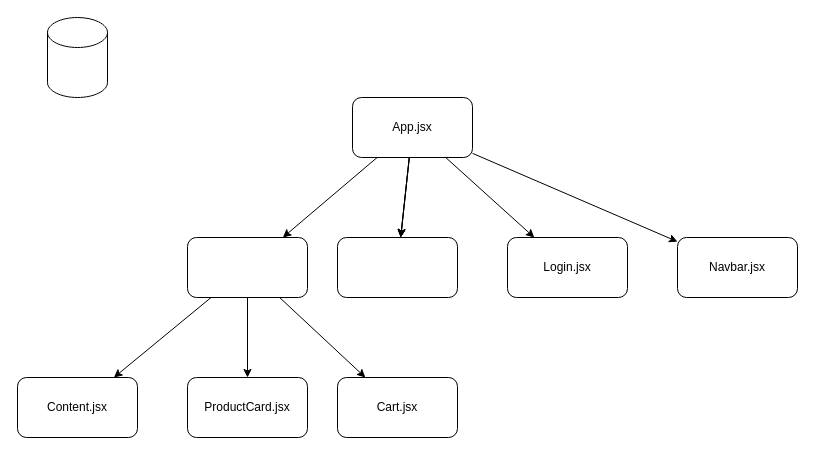
Some shapes in this 815 by 455 pixel diagram are drawn without their labels. The centre of each missing label's shape, as x and y in pixels:
About.jsx: (x=397, y=267)
Global State: (x=77, y=57)
Home.jsx: (x=247, y=267)
